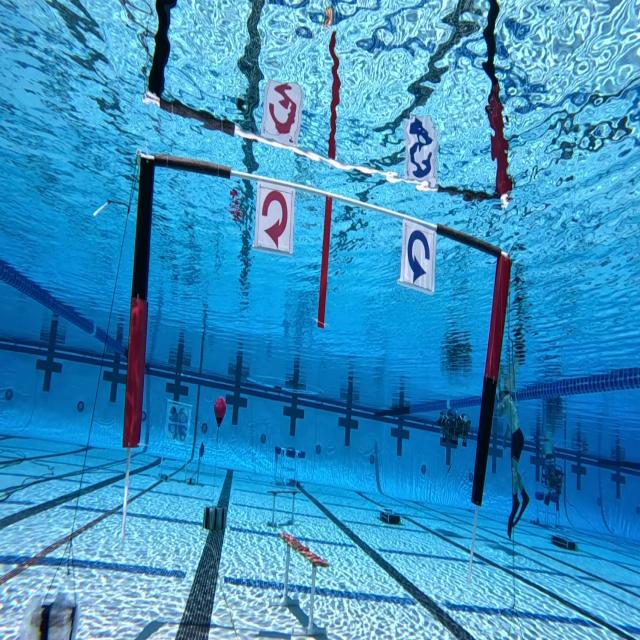blue_side: (402, 222, 436, 284)
red_side: (256, 178, 296, 258)
